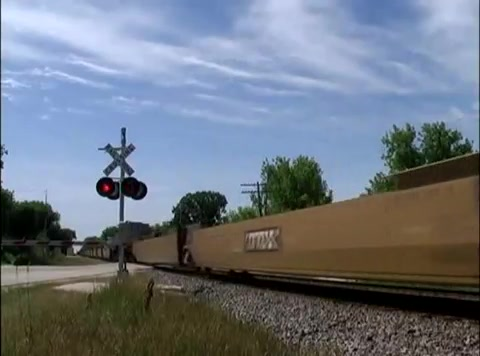train: (83, 154, 480, 313)
